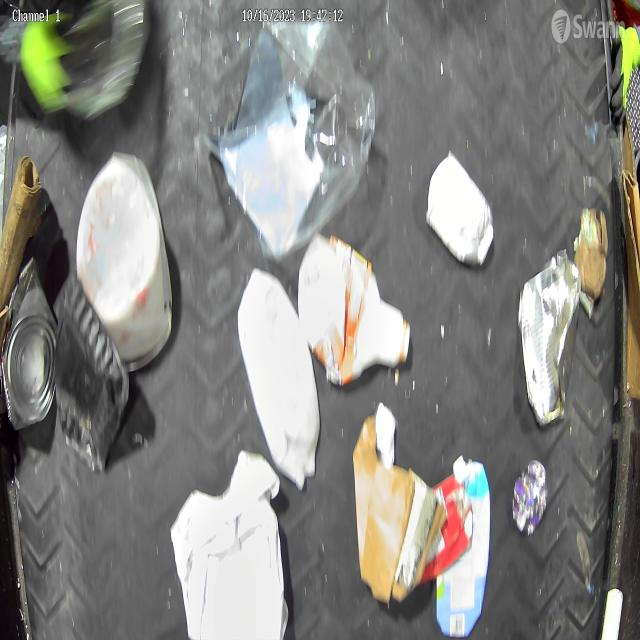can: (517, 248, 582, 426), (0, 256, 58, 430), (511, 457, 549, 536)
milk_jug: (237, 268, 321, 493)
non_white_jug: (296, 231, 412, 384)
